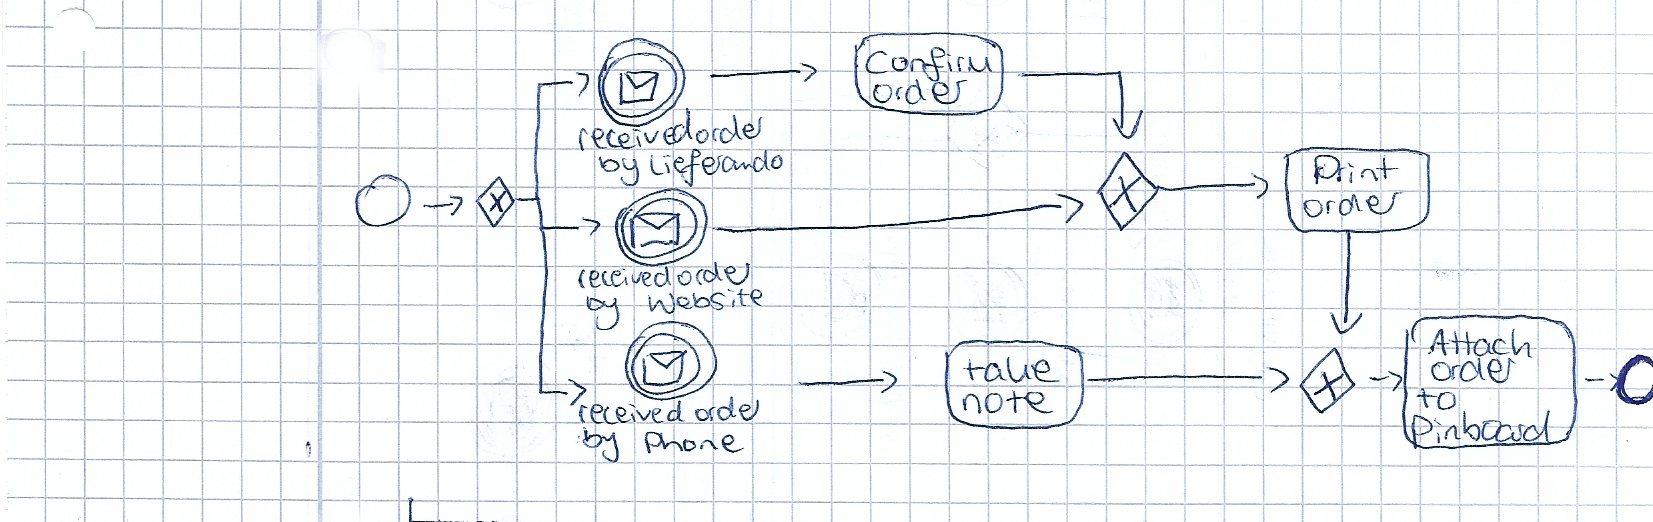Attach: (1424, 328, 1536, 356)
Confirm: (864, 45, 994, 80)
Lieferando: (646, 147, 785, 189)
Phone: (639, 430, 745, 455)
Pinboard: (1408, 409, 1556, 448)
Print: (1310, 151, 1402, 183)
by: (582, 291, 626, 334), (579, 425, 625, 466), (597, 149, 643, 190)
note: (957, 388, 1059, 415)
order: (1300, 186, 1407, 220), (872, 76, 969, 108), (1426, 353, 1521, 384), (693, 109, 769, 147), (694, 391, 765, 425), (675, 259, 754, 289)
received: (575, 108, 694, 154), (573, 398, 688, 428), (571, 265, 677, 292)
take: (960, 353, 1059, 389)
to: (1415, 384, 1461, 413)
website: (643, 286, 770, 317)
